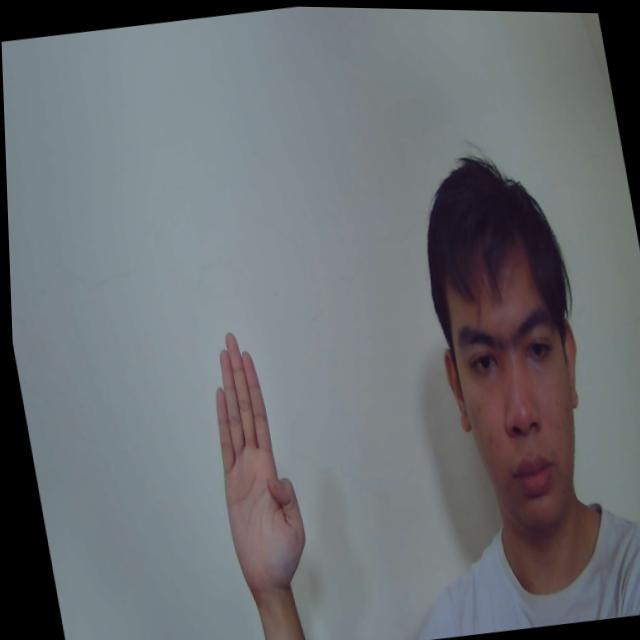B: (192, 323, 311, 594)
